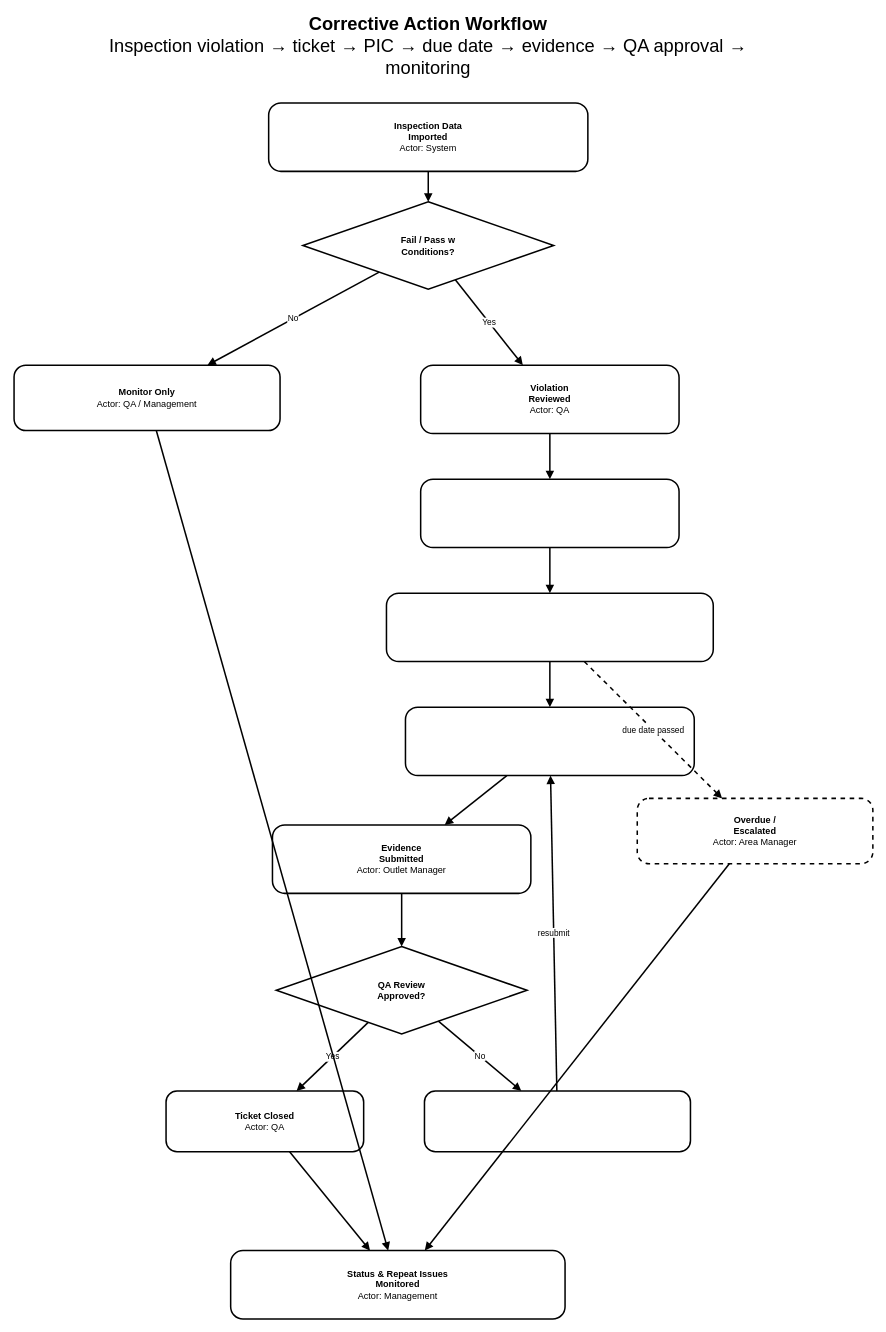
Some shapes in this 886 by 1332 pixel diagram are drawn without their labels. The shapes that lost their labels are listed below. From the top down, each one's centre as x and y in pixels, then its label:
At (x=549, y=513): "Corrective Action Ticket Created Actor: System / QA".
At (x=549, y=627): "PIC & Due Date Assigned Actor: QA / Area Manager".
At (x=549, y=741): "Corrective Action Performed Actor: Outlet Manager".
At (x=557, y=1121): "Rework Required Actor: Outlet Manager".
